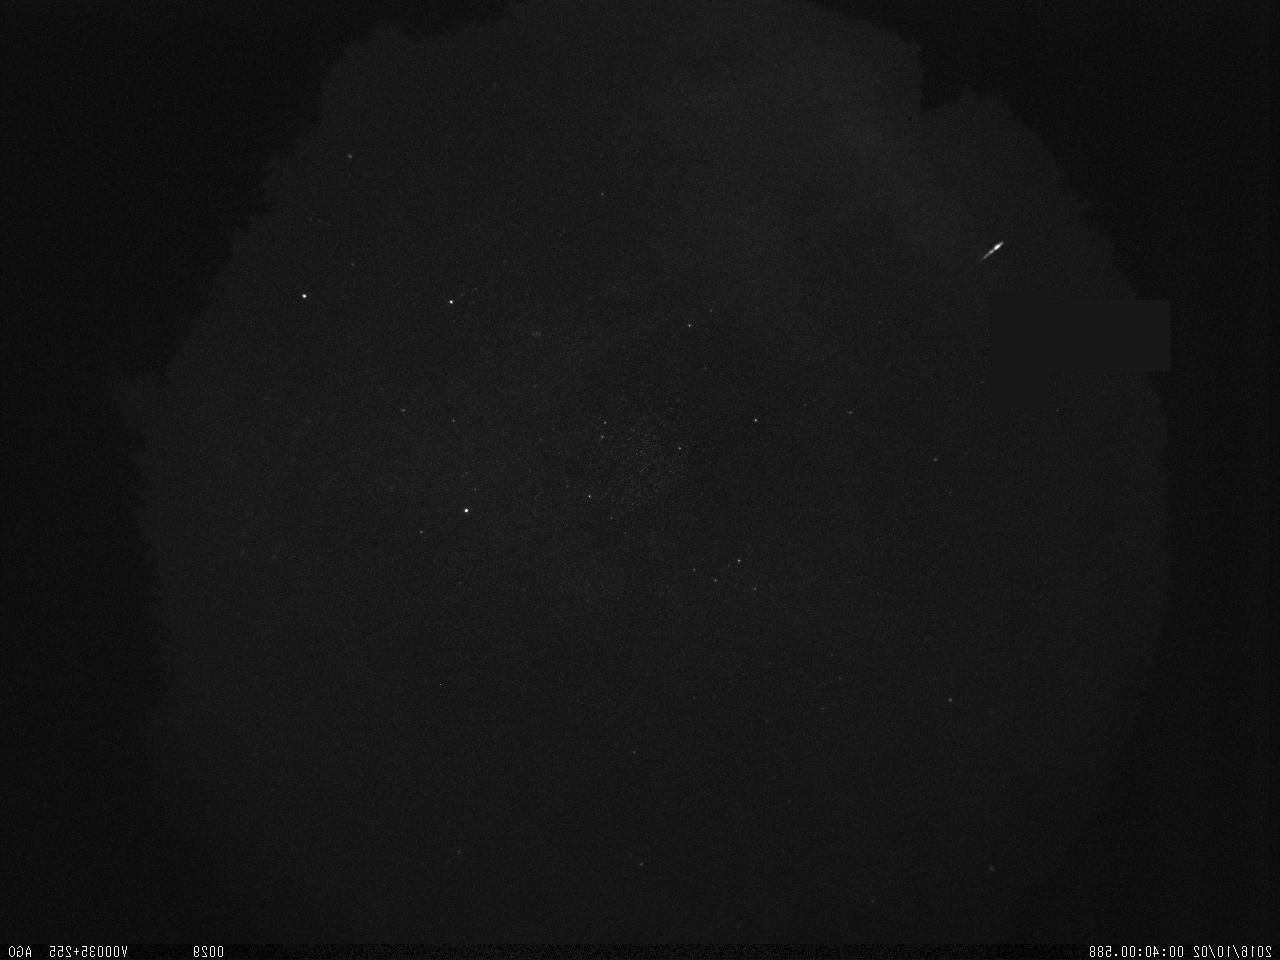meteor: (977, 236, 1006, 269)
